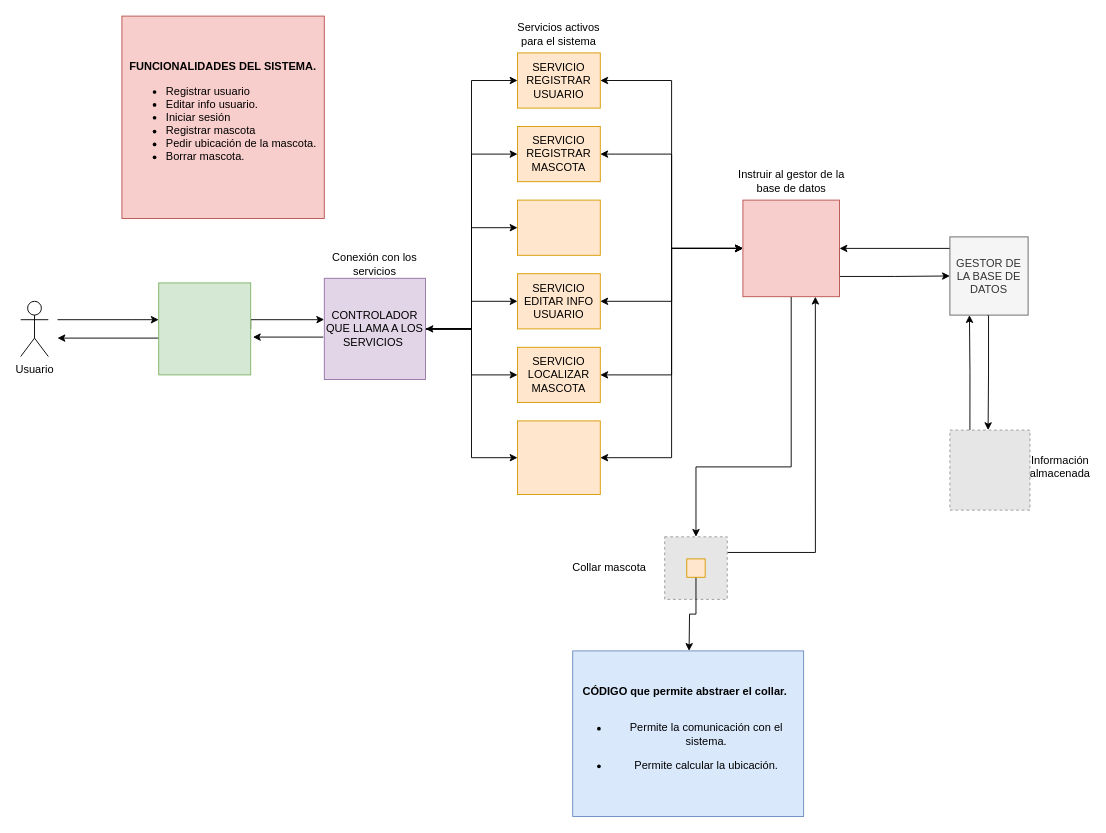
Image size: 1106x833. Some labels were removed from this diagram. Grey dashed boxes stand in for pictures. The box of each missing label's shape, as (x1, y1, x2, y2) in pixels:
CONSULTA INFORMACIÓN: (742, 199, 840, 297)
INTERFAZ HUMANO COMPUTADOR: (158, 282, 251, 375)
SERVICIO ELIMINAR MASCOTA (BORRADO LÓGICO): (517, 420, 600, 494)
SERVICIO LOGIN USUARIO: (517, 199, 600, 255)
